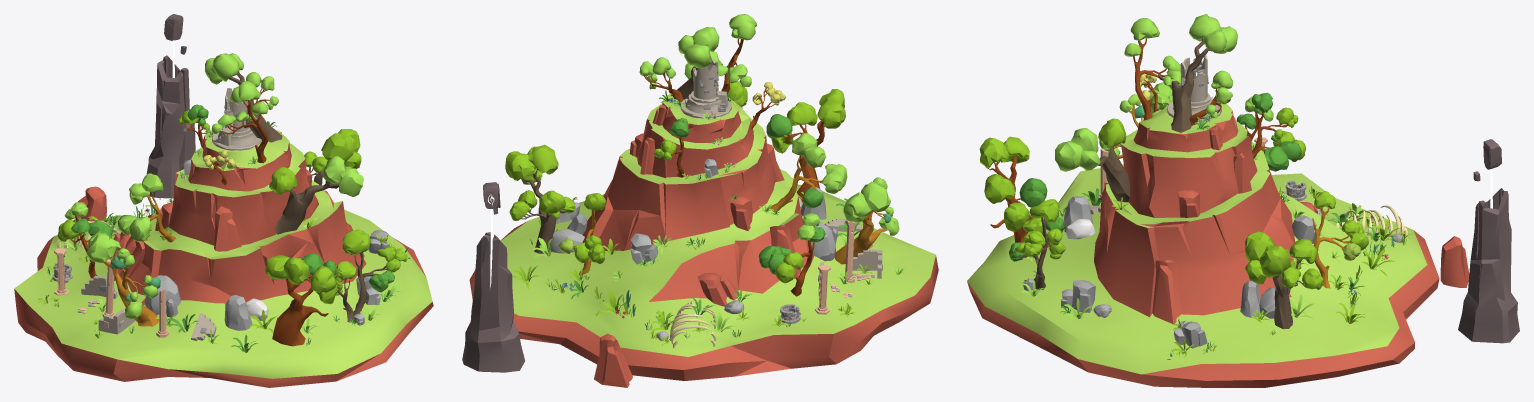
The model's file is island1.glb.
3 renders of one model, left to right at view 1: azimuth 30°, elevation 25°; view 2: azimuth 150°, elevation 25°; view 3: azimuth 270°, elevation 25°, orthographic. The views are drawn at different scales.
Parts seen in each view (by area): view 1: Plane.014_108, Cylinder.009_94, Cube.016_14, Cube.070_68, Cylinder.002_87, Mball.005_126, Mball.112_122, Mball.021_112, Mball.004_116, Cube.076_265, Mball.001_125, Icosphere.003_96 (+22 smaller); view 2: Plane.014_108, Cylinder.009_94, Cylinder.002_87, Mball.005_126, Cube.080_270, Mball.035_2, Mball.001_125, Mball.112_122, Mball.004_116, Cube.013_11, Mball.061_167, Cube.038_39 (+18 smaller); view 3: Plane.014_108, Cylinder.009_94, Mball.005_126, Cube.077_266, Mball.021_112, Cube.015_81, Mball.001_125, Cube.080_270, Mball.004_116, Cylinder.002_87, Mball.112_122, Cube.070_68 (+21 smaller).
Part boxes in pixels (x1,y1,x2,y2): Plane.014_108: (14,130,433,387); Cylinder.009_94: (146,55,195,198); Cube.016_14: (272,276,328,346); Cube.070_68: (275,181,338,234); Cylinder.002_87: (212,88,261,150); Mball.005_126: (321,129,361,168); Mball.112_122: (211,81,268,133); Mball.021_112: (323,156,363,196); Mball.004_116: (265,255,309,284); Cube.076_265: (214,206,241,251); Mball.001_125: (205,53,243,84); Icosphere.003_96: (224,295,252,330); Plane.014_108: (469,91,938,380); Cylinder.009_94: (462,232,524,372); Cylinder.002_87: (680,59,731,118); Mball.005_126: (505,144,558,184); Cube.080_270: (594,333,632,387); Mball.035_2: (843,181,890,221); Mball.001_125: (678,27,719,68); Mball.112_122: (718,14,756,87); Mball.004_116: (817,89,845,128); Cube.013_11: (834,210,887,264); Mball.061_167: (792,133,826,167); Cube.038_39: (522,169,565,253); Plane.014_108: (967,99,1439,387); Cylinder.009_94: (1458,188,1519,343); Mball.005_126: (1245,231,1290,284); Cube.077_266: (1152,260,1181,323); Mball.021_112: (1055,128,1100,171); Cube.015_81: (1158,38,1212,132); Mball.001_125: (1189,14,1237,53); Cube.080_270: (1440,236,1469,287); Mball.004_116: (979,136,1029,168); Cylinder.002_87: (1166,55,1221,122); Mball.112_122: (1124,18,1181,86); Cube.070_68: (1098,145,1129,202).
Bounding box in the file's own units: 142 × 94.32 × 165.
